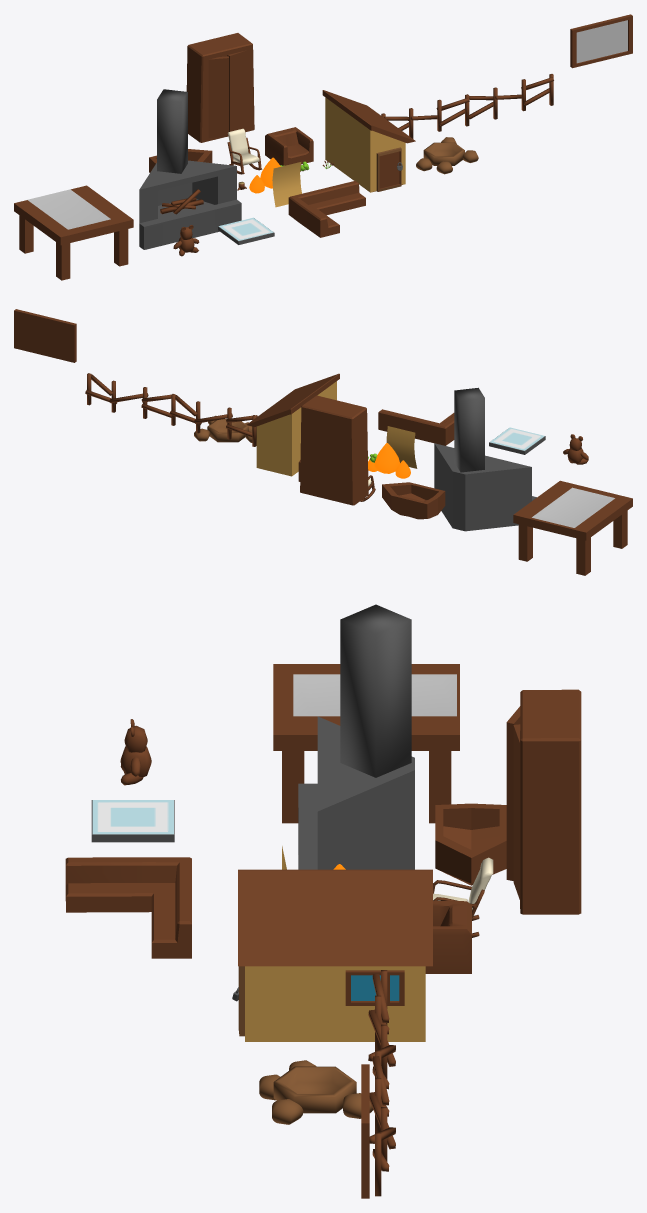
File: Kusti.fbx
The picture shows the model from 3 angles, top to bottom: view 1: azimuth 30°, elevation 25°; view 2: azimuth 150°, elevation 25°; view 3: azimuth 270°, elevation 25°; orthographic projection. The views are drawn at different scales.
Visible parts, largest first — view 1: CUMin, closet, sarai, table, sofa_v2, Картина, Fence, map, chair, hole, paper, power_station (+4 smaller); view 2: CUMin, closet, table, sarai, Картина, Fence, Boat, map, sofa_v2, power_station, hole, paper (+2 smaller); view 3: sarai, CUMin, closet, sofa_v2, table, Boat, hole, map, power_station, Fence, chair, toy_bear (+1 smaller).
Boxes of the visible parts, <box> form: CUMin: <box>139,89,241,249</box>; closet: <box>186,33,254,142</box>; sarai: <box>322,90,415,192</box>; table: <box>14,185,133,280</box>; sofa_v2: <box>288,180,365,237</box>; Картина: <box>570,14,632,68</box>; Fence: <box>381,74,553,138</box>; map: <box>27,189,110,229</box>; chair: <box>265,127,313,165</box>; hole: <box>416,137,478,174</box>; paper: <box>272,162,301,207</box>; power_station: <box>218,217,274,244</box>; CUMin: <box>434,387,536,531</box>; closet: <box>300,395,368,505</box>; table: <box>513,480,632,575</box>; sarai: <box>246,373,339,476</box>; Картина: <box>14,309,76,362</box>; Fence: <box>85,373,257,446</box>; Boat: <box>382,482,445,519</box>; map: <box>532,487,614,527</box>; sofa_v2: <box>378,409,454,445</box>; power_station: <box>489,427,545,454</box>; hole: <box>194,415,252,442</box>; paper: <box>386,426,417,468</box>; sarai: <box>232,869,432,1041</box>; CUMin: <box>298,604,414,869</box>; closet: <box>506,689,581,914</box>; sofa_v2: <box>65,857,191,958</box>; table: <box>273,664,459,823</box>; Boat: <box>435,803,506,885</box>; hole: <box>259,1060,373,1124</box>; map: <box>293,674,456,716</box>; power_station: <box>91,800,174,842</box>; Fence: <box>368,970,395,1196</box>; chair: <box>425,901,471,973</box>; toy_bear: <box>120,719,151,785</box>.
Bounding box in the file's own units: 3307 × 717 × 1242.
